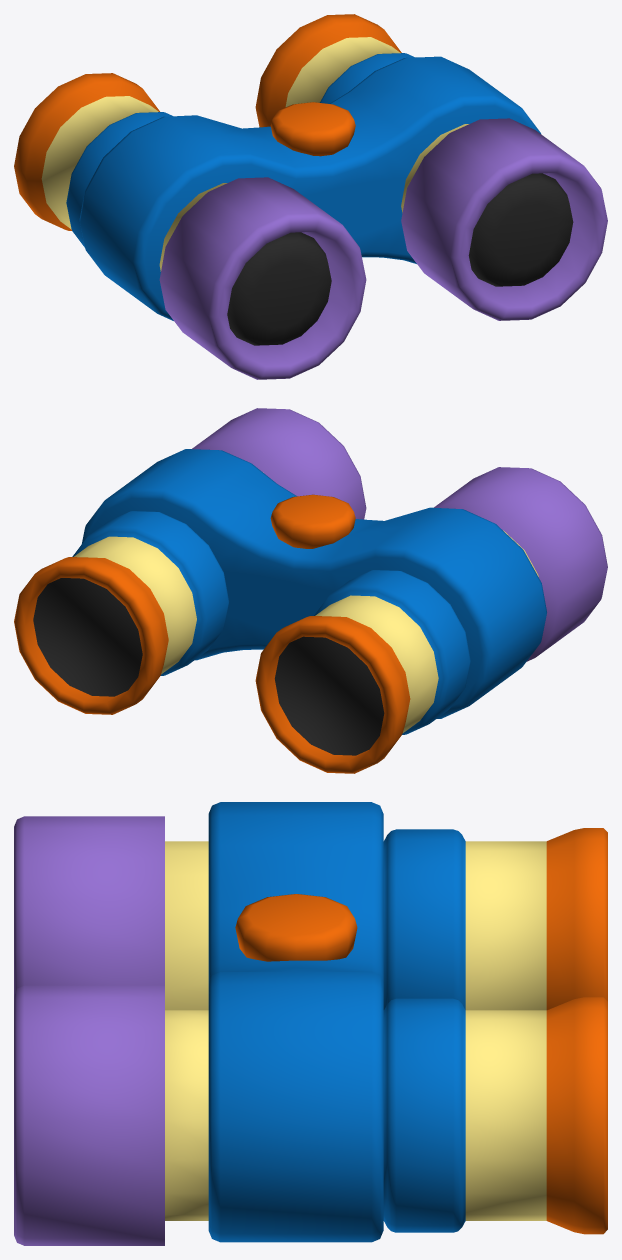
Rendered from Ello_Binocular.fbx.
3 renders of one model, top to bottom at view 1: azimuth 30°, elevation 25°; view 2: azimuth 150°, elevation 25°; view 3: azimuth 270°, elevation 25°, orthographic. The views are drawn at different scales.
Parts seen in each view (by area): view 1: bINOCULAR; view 2: bINOCULAR; view 3: bINOCULAR.
Boxes of the visible parts, x1,y1,x2,y2 form: bINOCULAR: [14, 14, 607, 379]; bINOCULAR: [14, 408, 607, 773]; bINOCULAR: [14, 802, 607, 1245].
Size of the model in its own units: 3.06 by 1.23 by 2.65.
